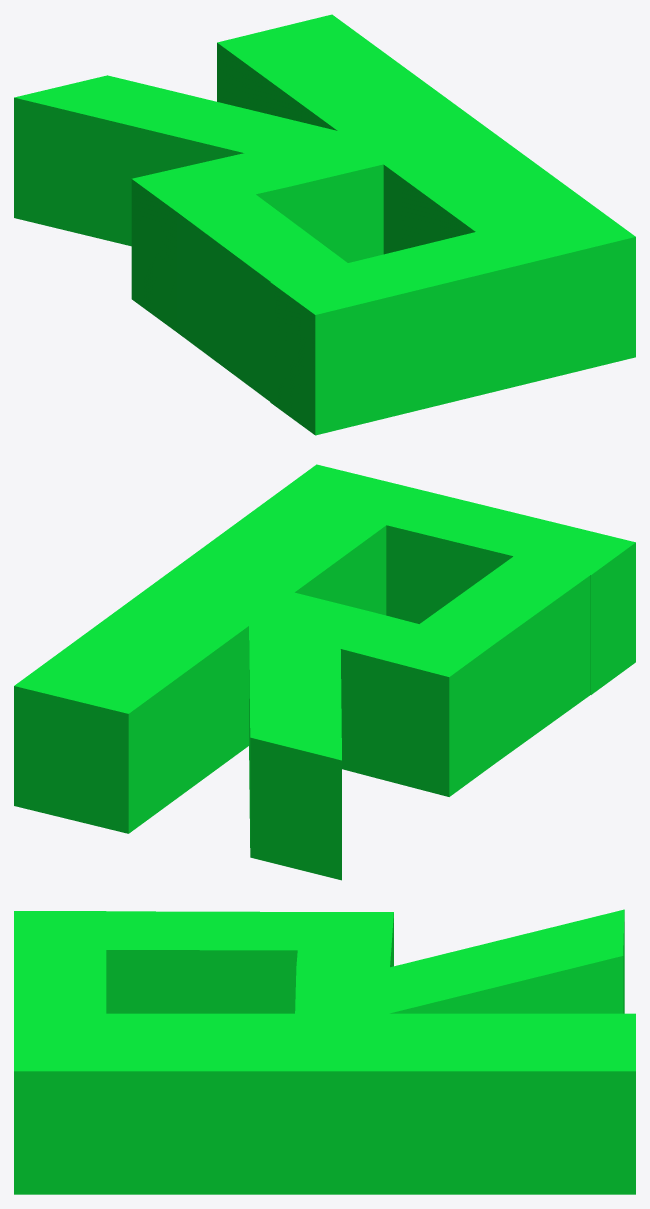
Rendered from LetterR.obj.
3 renders of one model, top to bottom at view 1: azimuth 30°, elevation 25°; view 2: azimuth 150°, elevation 25°; view 3: azimuth 270°, elevation 25°, orthographic. The views are drawn at different scales.
Parts seen in each view (by area): view 1: LetterR; view 2: LetterR; view 3: LetterR.
Part boxes in pixels (left/top/right/bottom): LetterR: left=14, top=14, right=635, bottom=435; LetterR: left=14, top=464, right=635, bottom=880; LetterR: left=14, top=909, right=635, bottom=1194.
Bounding box in the file's own units: 2.81 × 1 × 4.57.
